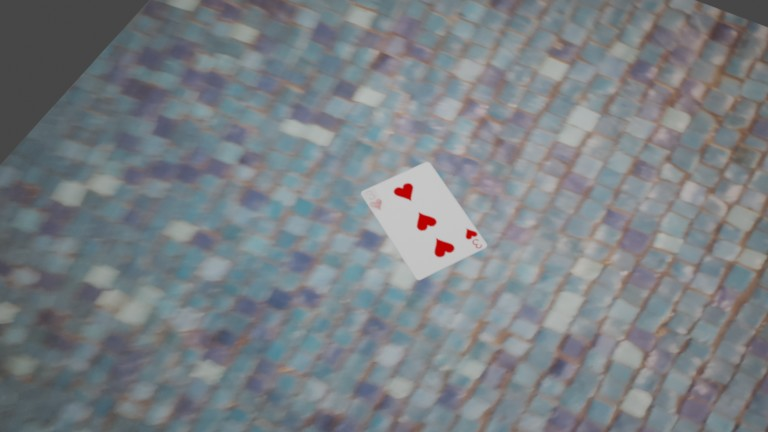3_of_hearts: (460, 225, 487, 252), (361, 188, 387, 214)
